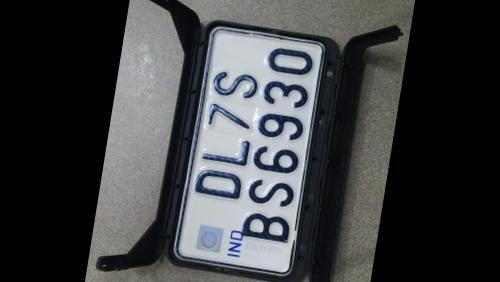plate: (164, 20, 327, 271)
